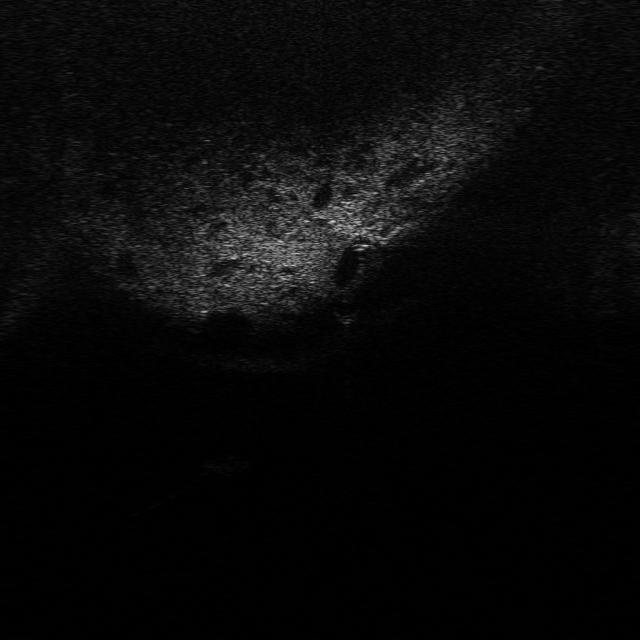ball: (323, 292, 367, 324)
cube: (196, 451, 252, 474)
